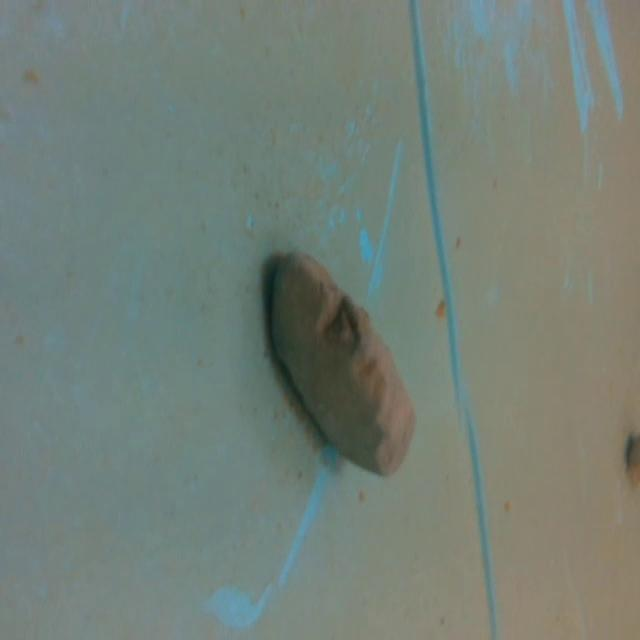rock: (255, 248, 425, 482)
